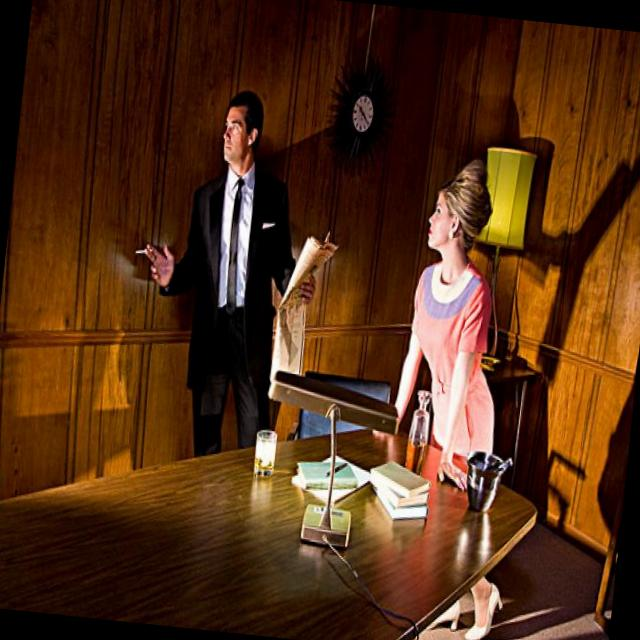smoke: (132, 239, 154, 256)
